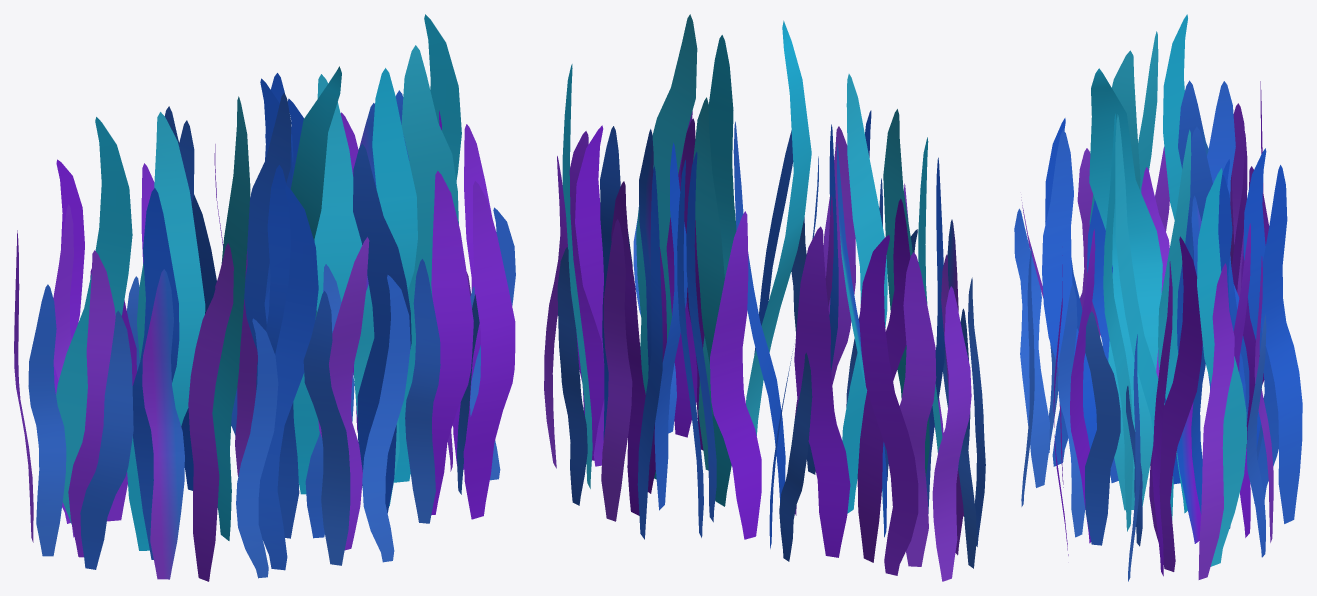
The model's file is plantB_001.fbx.
3 views of the same model, side by side, from view 1: azimuth 30°, elevation 25°; view 2: azimuth 150°, elevation 25°; view 3: azimuth 270°, elevation 25° (orthographic). The views are drawn at different scales.
Parts seen in each view (by area): view 1: plantB.001; view 2: plantB.001; view 3: plantB.001.
Part boxes in pixels (x1,y1,x2,y2): plantB.001: [14, 14, 515, 581]; plantB.001: [544, 14, 985, 581]; plantB.001: [1014, 14, 1302, 581].
Bounding box in the file's own units: 103 × 102 × 60.71.
